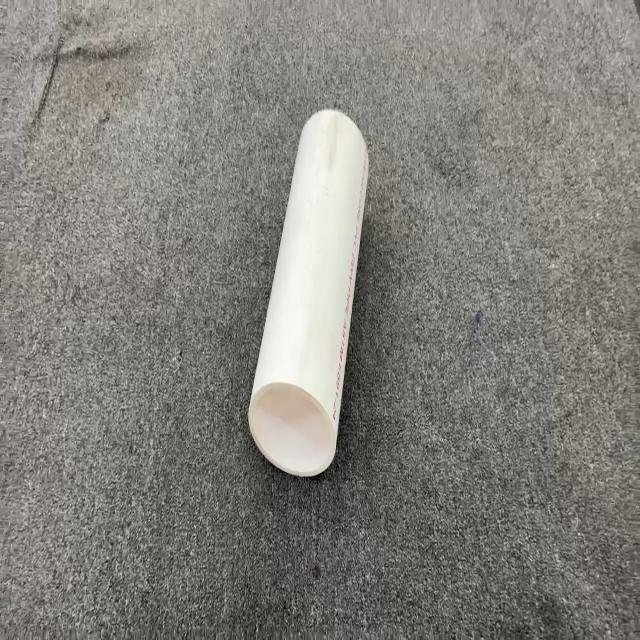coral: (247, 107, 369, 477)
